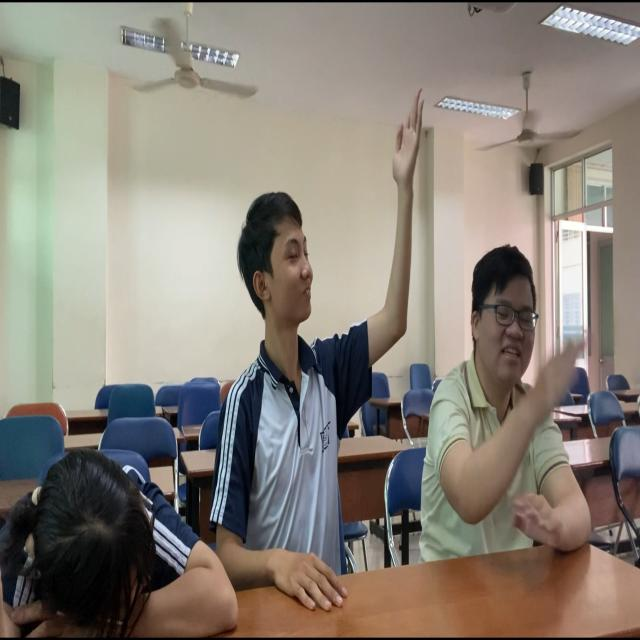raise_hand: (410, 228, 611, 575)
sleep: (1, 429, 265, 640)
